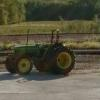Tractor: (3, 34, 79, 83)
